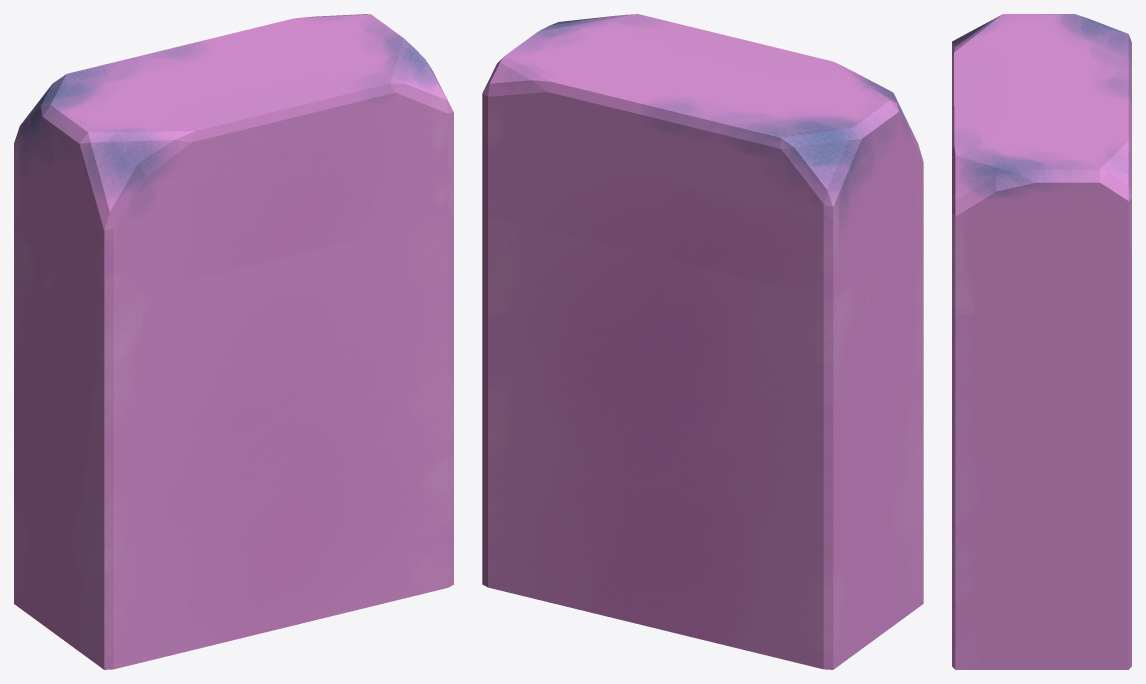
The model's file is Eraser.fbx.
3 renders of one model, left to right at view 1: azimuth 30°, elevation 25°; view 2: azimuth 150°, elevation 25°; view 3: azimuth 270°, elevation 25°, orthographic. The views are drawn at different scales.
Parts seen in each view (by area): view 1: 큐브; view 2: 큐브; view 3: 큐브.
Part boxes in pixels (x1,y1,x2,y2): 큐브: (14, 14, 453, 669); 큐브: (482, 14, 923, 669); 큐브: (952, 14, 1131, 669).
Size of the model in its own units: 6.28 by 8.88 by 2.92.
